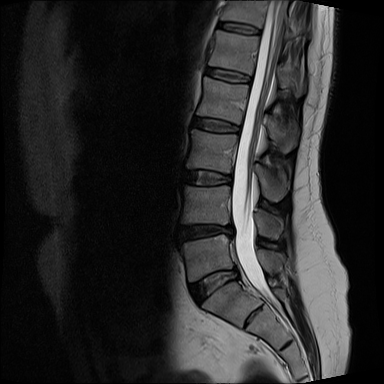Lumbar Disc Bulge (LDB): (182, 258, 249, 312), (175, 216, 244, 248)
Normal IVD: (185, 110, 245, 140), (198, 59, 256, 90), (175, 164, 237, 190), (214, 20, 264, 37)
Spinal Stenosis (SS): (224, 257, 243, 289), (217, 217, 238, 245)
